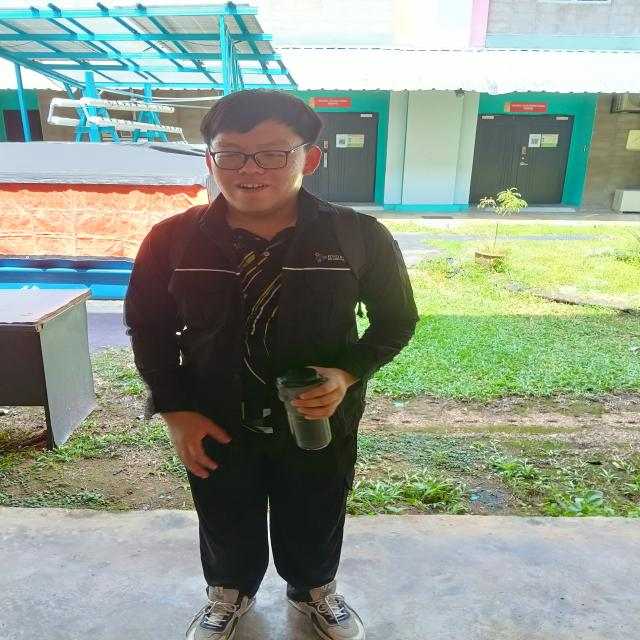person_with_labcoat: (125, 89, 418, 640)
